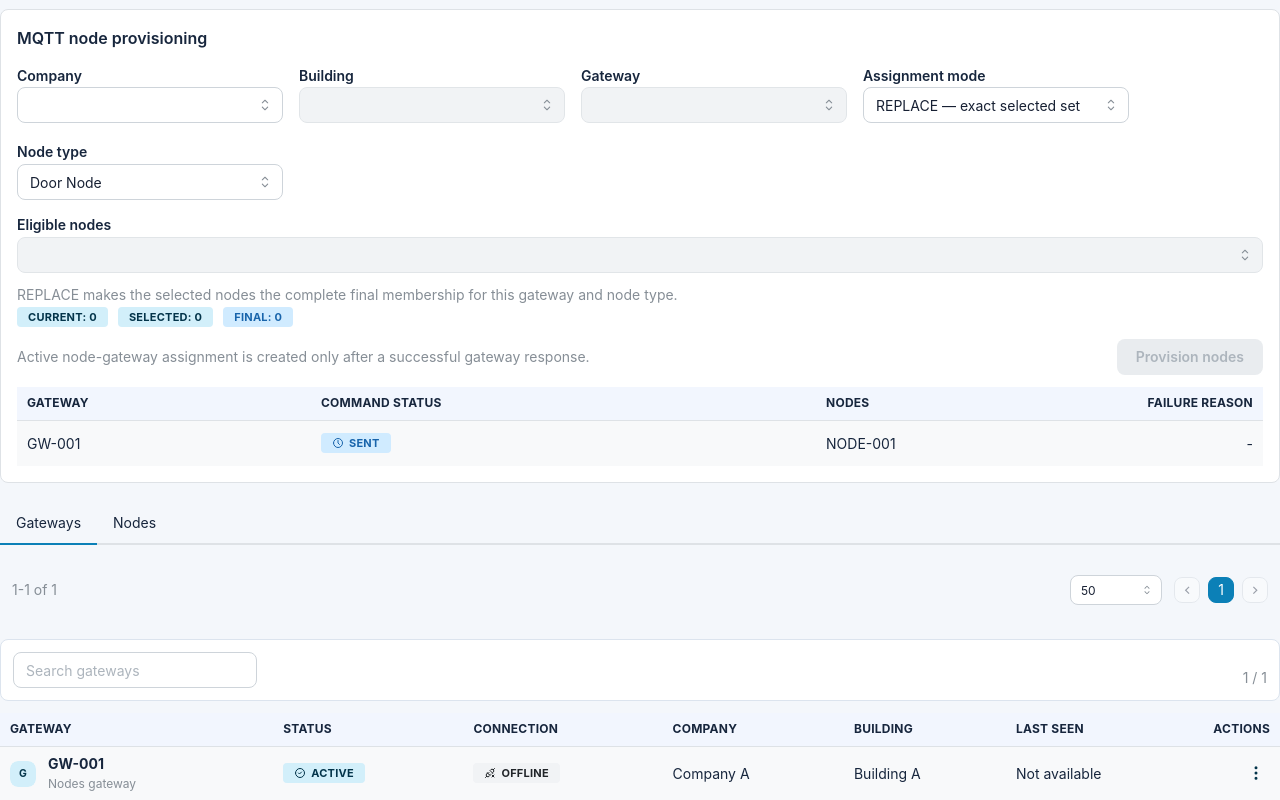
Test: Phase 8 Admin devices provisioning UI › shows localized success and conflict feedback for delete mutations
(page scrolled)
Click the button named "More actions: GW-001": point(1256, 773) 1242,759 -> 1270,787
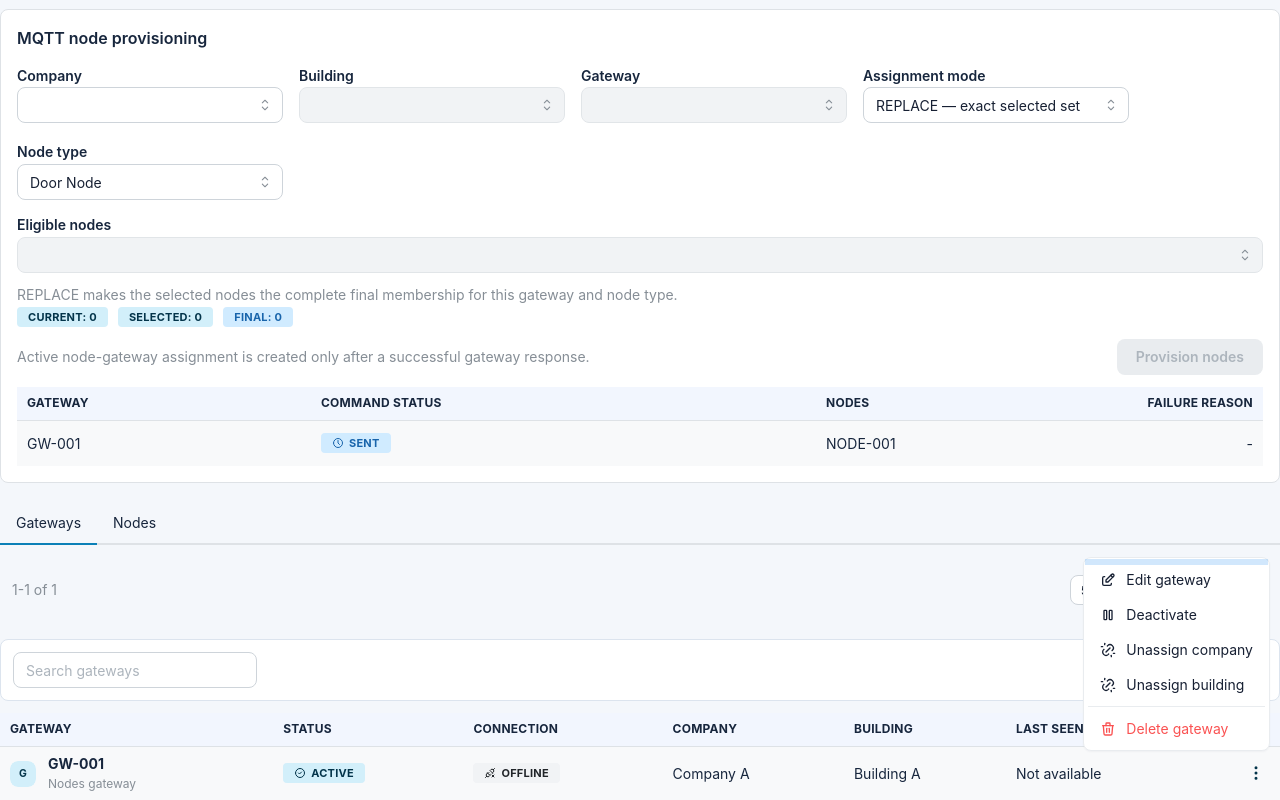
Click the menu item "Delete gateway": point(1177, 729) 1088,711 -> 1265,746
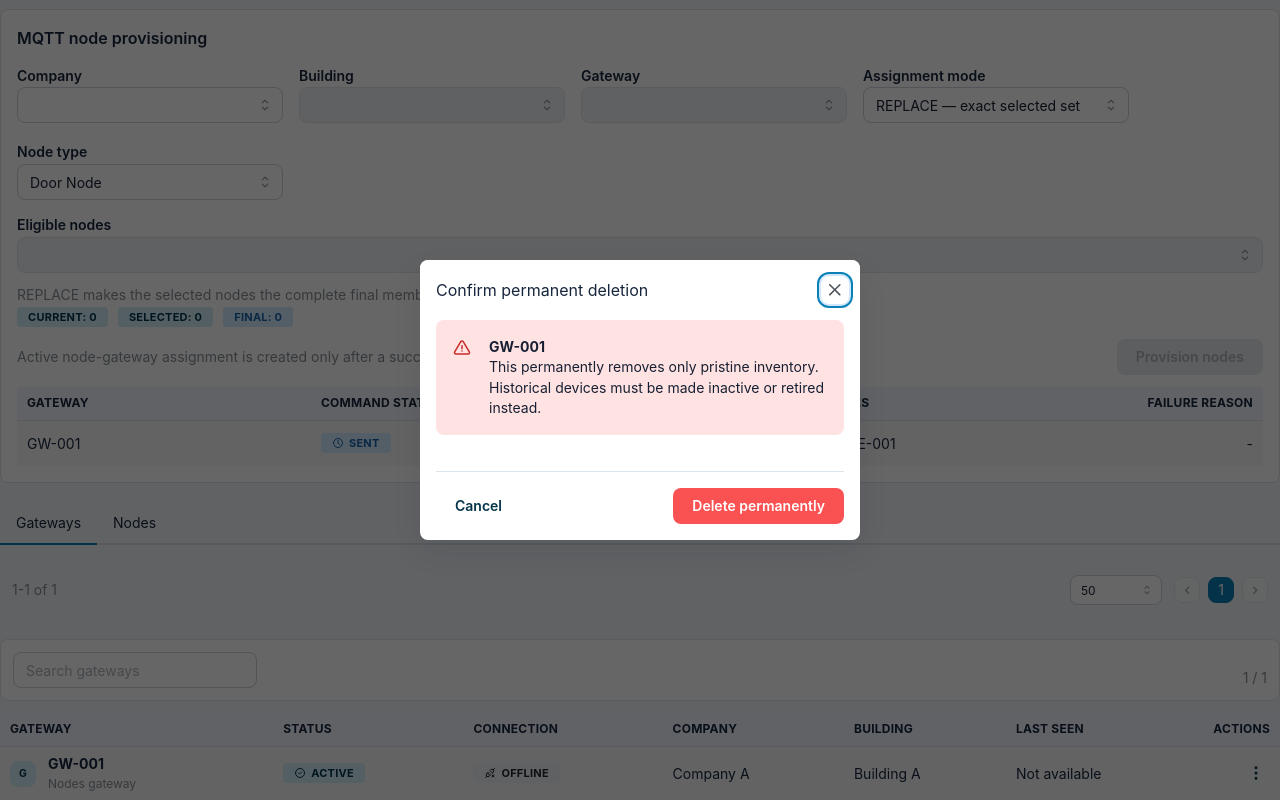
Click the button "Delete permanently": point(759, 506) 673,488 -> 844,524
(page scrolled)
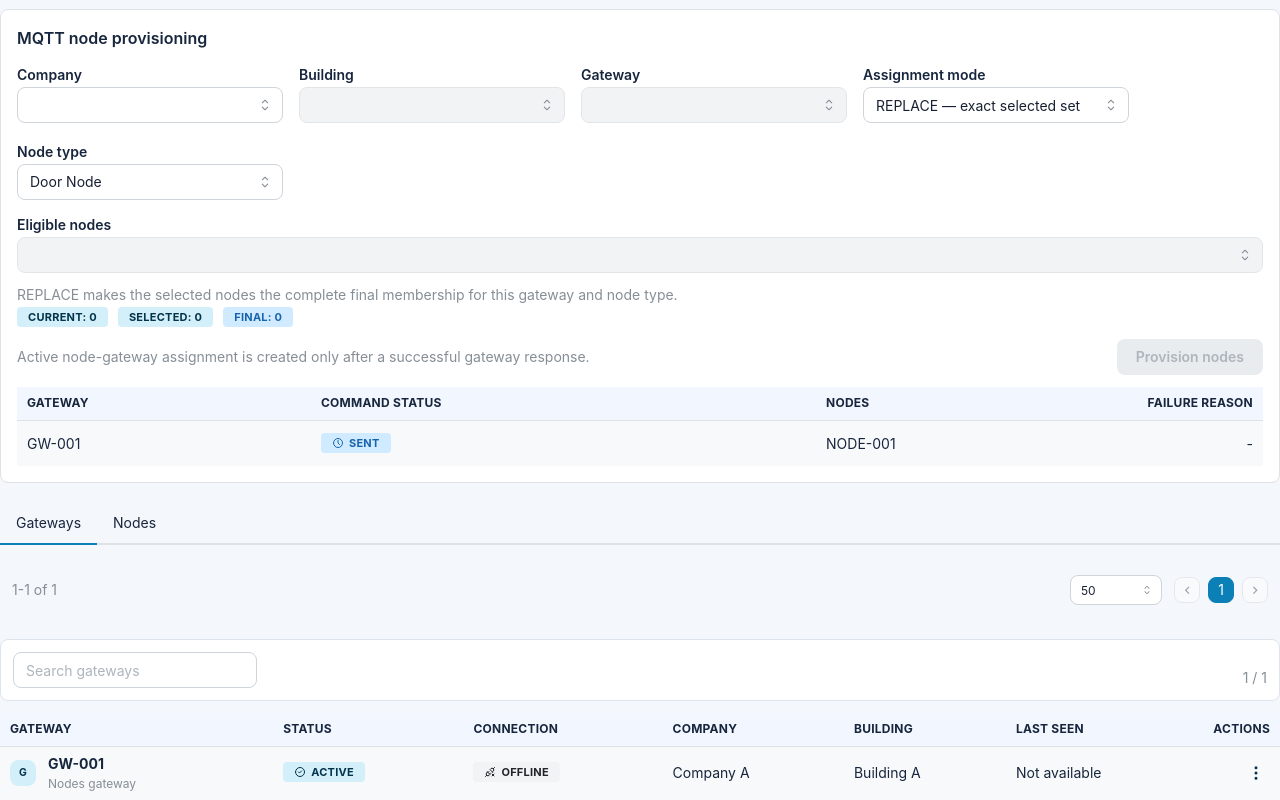
Click the button named "More actions: GW-001": point(1256, 773) 1242,759 -> 1270,787
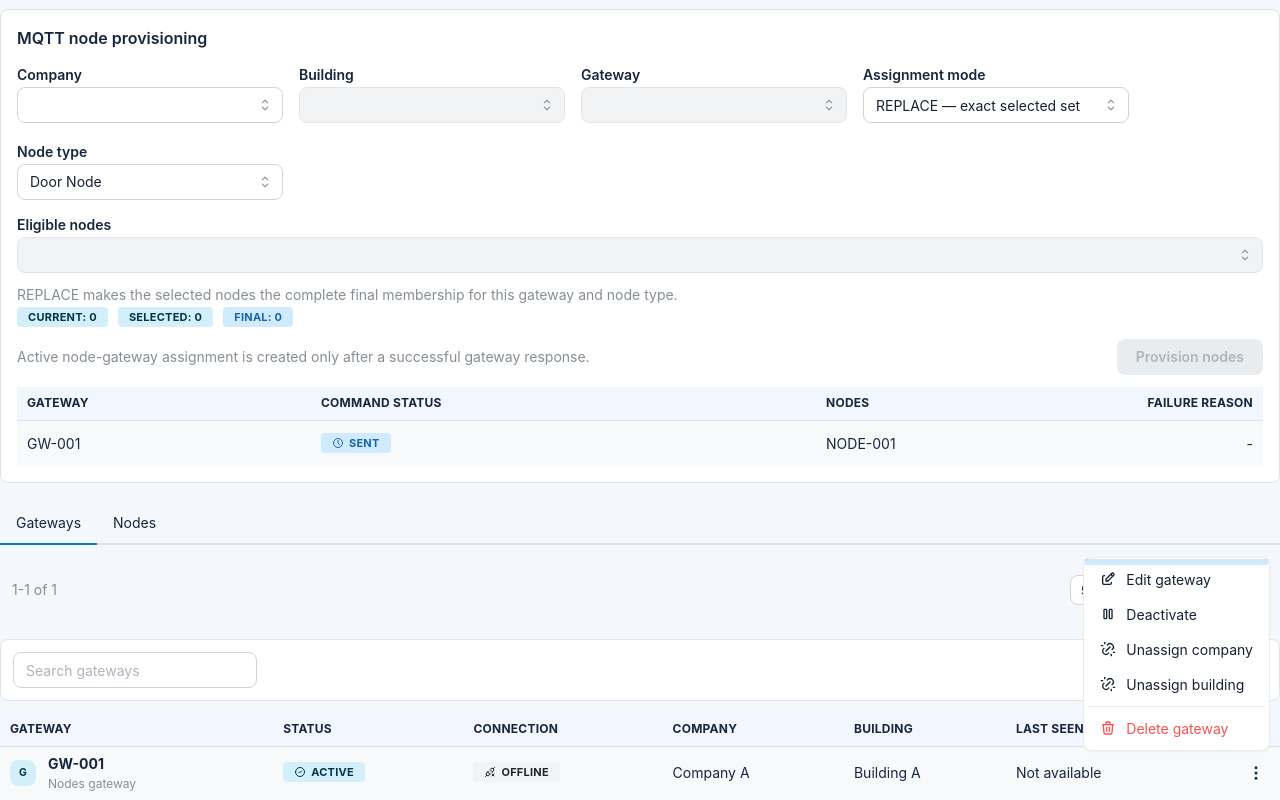
Click the menu item "Delete gateway": point(1177, 728) 1088,711 -> 1265,746
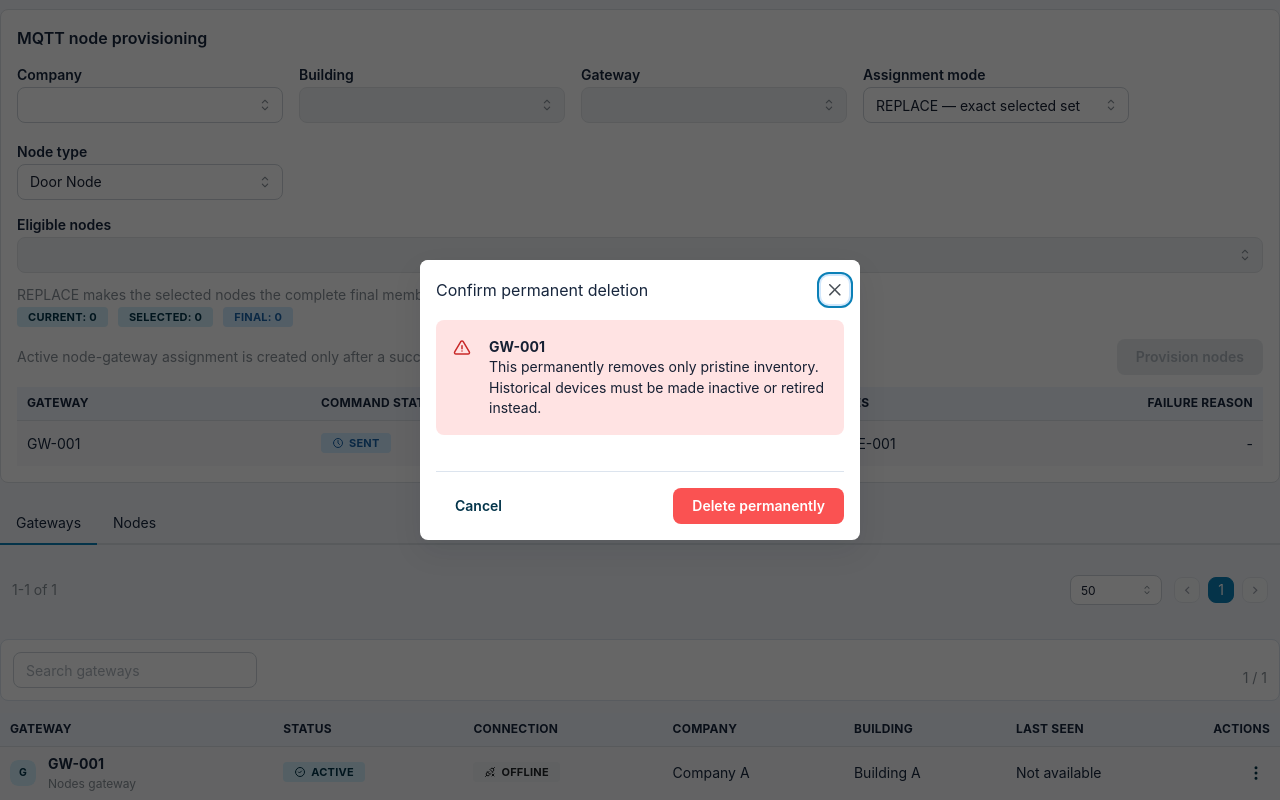
Click the button "Delete permanently": point(759, 506) 673,488 -> 844,524
(page scrolled)
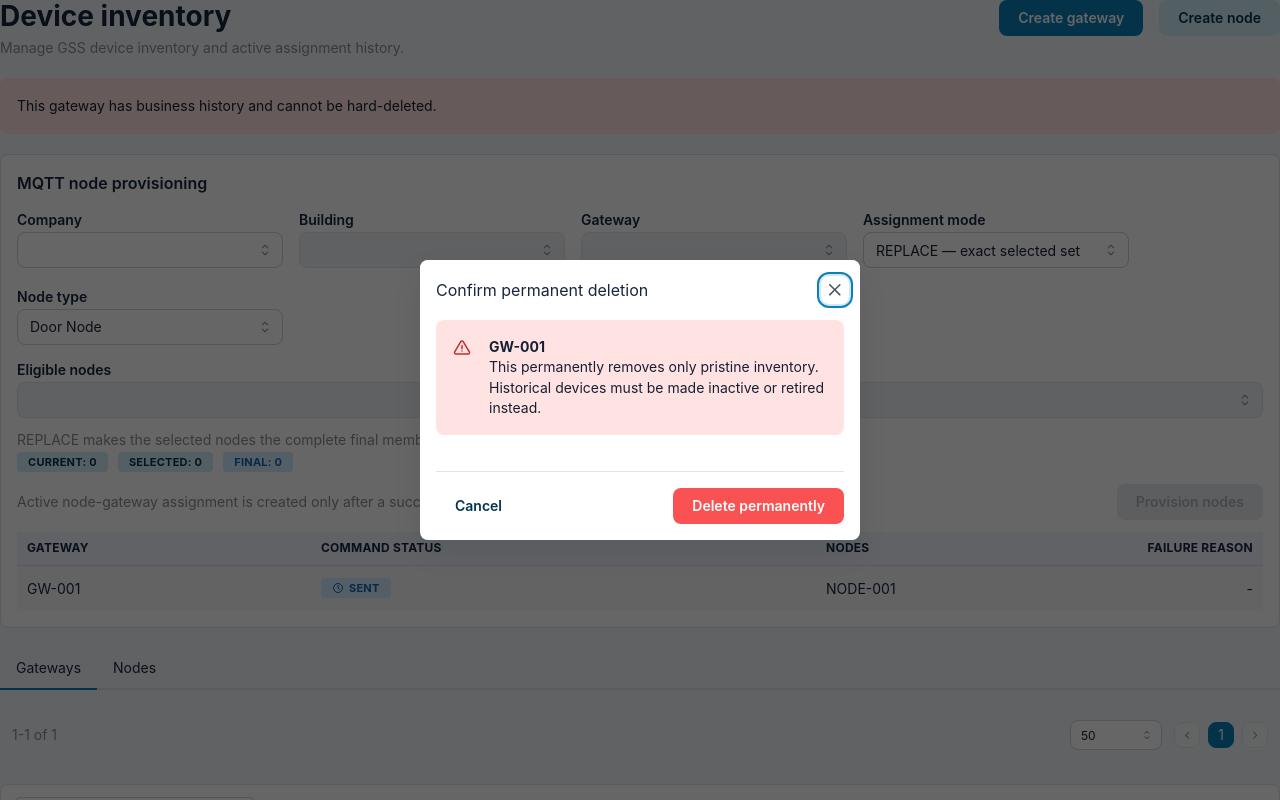
Check: the text "This gateway has business history and cannot be hard-deleted." is shown, box 17,97 -> 437,114
